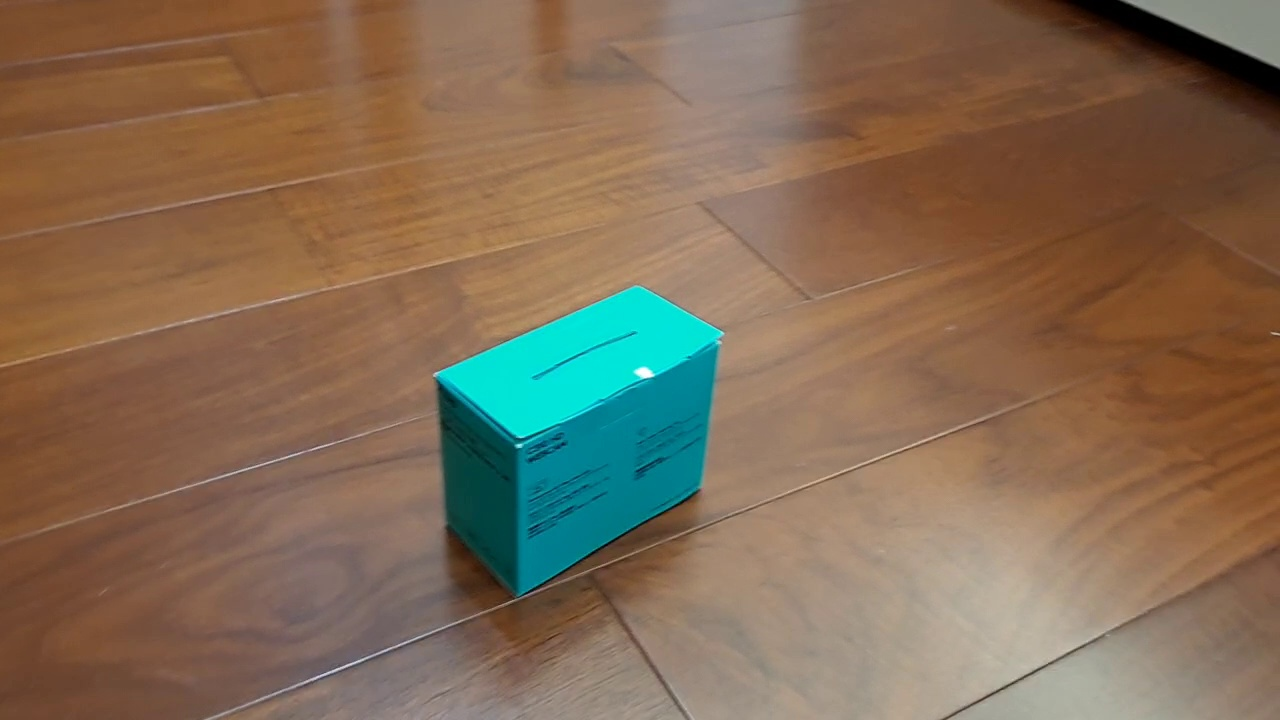webcam: (431, 283, 726, 599)
